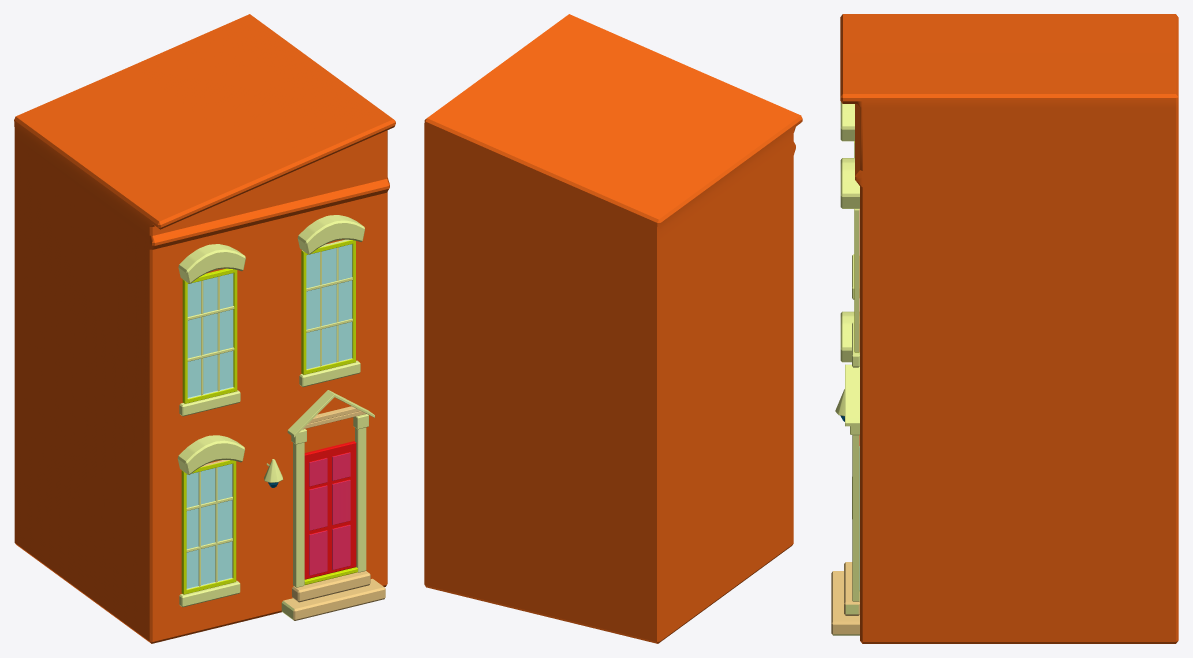
Rendered from TimHouse1_UV.fbx.
The picture shows the model from 3 angles, left to right: view 1: azimuth 30°, elevation 25°; view 2: azimuth 150°, elevation 25°; view 3: azimuth 270°, elevation 25°; orthographic projection. The views are drawn at different scales.
Parts seen in each view (by area): view 1: polySurface202; view 2: polySurface202; view 3: polySurface202.
Boxes of the visible parts, bbox=[...] form: polySurface202: bbox=[14, 14, 395, 643]; polySurface202: bbox=[424, 14, 802, 643]; polySurface202: bbox=[831, 14, 1178, 643].
Size of the model in its own units: 507 by 962 by 551.
